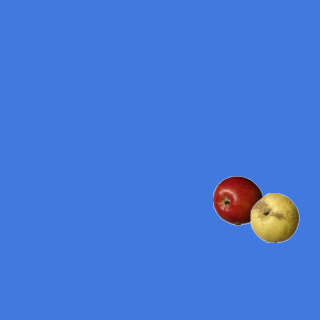Apple Braeburn: (212, 175, 262, 225)
Apple Golden 1: (249, 192, 299, 242)
